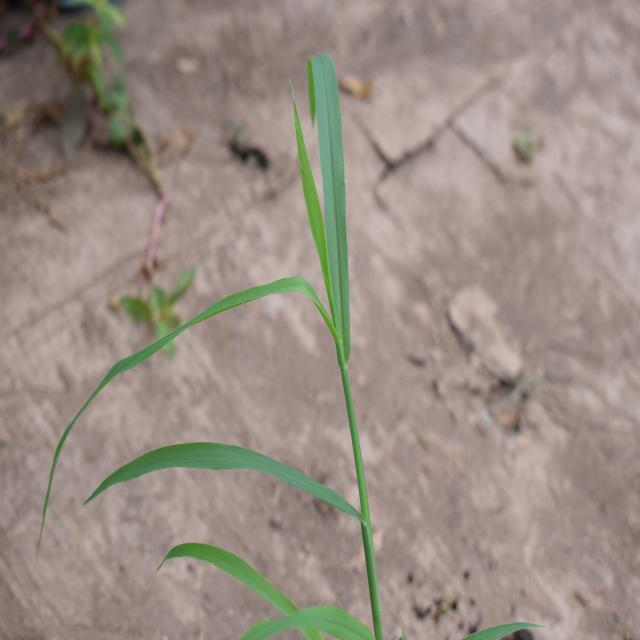crabgrass: (100, 70, 394, 622)
